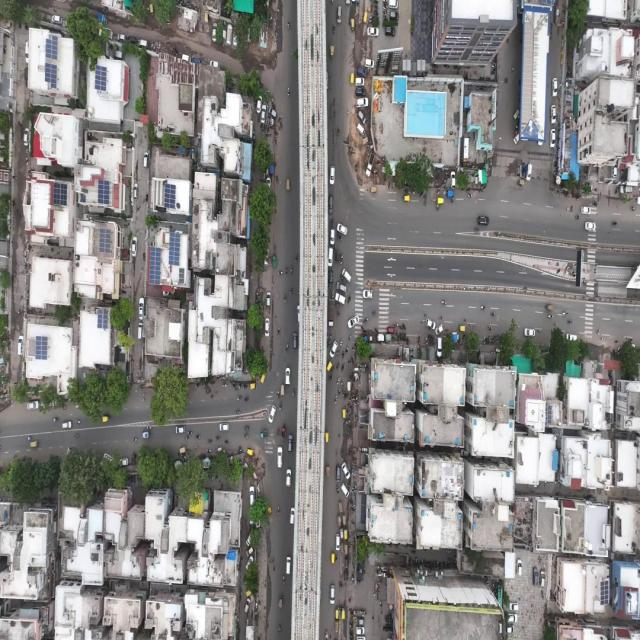3W: (322, 426, 332, 449), (323, 460, 332, 482), (435, 195, 446, 209), (400, 193, 412, 205), (29, 436, 40, 449), (246, 444, 257, 457), (344, 565, 351, 585), (285, 177, 292, 196), (329, 42, 335, 64), (368, 183, 378, 196), (342, 402, 348, 423), (349, 15, 356, 32), (178, 442, 187, 455), (334, 619, 340, 638), (329, 550, 336, 566), (335, 604, 341, 622), (362, 8, 368, 25), (341, 604, 346, 624), (338, 498, 344, 514), (343, 554, 349, 570), (457, 321, 465, 333), (250, 380, 257, 393), (100, 413, 110, 422), (342, 509, 347, 526), (344, 542, 349, 558), (260, 374, 266, 387), (327, 361, 333, 374), (350, 70, 355, 85), (344, 527, 348, 545)
Cars: (334, 219, 350, 239), (344, 311, 360, 331), (265, 402, 278, 424), (530, 563, 540, 591), (476, 209, 490, 229), (548, 102, 558, 129), (362, 282, 375, 302), (538, 562, 546, 594), (354, 93, 370, 109), (434, 334, 445, 357), (547, 127, 558, 150), (263, 315, 272, 343), (334, 287, 346, 308), (432, 322, 446, 340), (136, 293, 144, 324), (338, 481, 351, 500), (284, 459, 291, 494), (218, 419, 234, 434), (275, 444, 283, 474), (245, 534, 257, 554), (522, 322, 537, 338), (523, 156, 532, 182), (514, 551, 522, 580), (131, 232, 139, 260), (284, 548, 291, 580), (564, 328, 578, 344), (582, 217, 595, 234), (618, 183, 635, 196), (550, 78, 560, 100), (16, 326, 23, 357), (22, 125, 31, 149), (504, 612, 518, 627), (22, 64, 30, 90), (23, 399, 40, 411), (340, 266, 352, 283), (329, 577, 336, 606), (286, 502, 294, 527), (449, 168, 459, 188), (342, 460, 351, 482), (226, 24, 233, 52), (172, 420, 185, 435), (286, 432, 294, 456), (284, 360, 291, 387), (337, 278, 350, 292), (422, 317, 436, 330), (506, 600, 519, 614), (355, 85, 369, 98), (357, 107, 367, 125), (353, 120, 365, 135), (365, 26, 380, 38), (336, 5, 345, 25), (329, 226, 338, 245), (329, 339, 338, 358), (243, 598, 252, 617), (354, 612, 364, 629), (52, 13, 65, 26), (335, 462, 342, 486), (504, 622, 516, 636), (353, 72, 365, 86), (336, 530, 342, 557), (247, 484, 255, 504), (385, 322, 395, 338), (292, 328, 298, 354), (272, 251, 278, 277), (362, 56, 374, 69), (212, 20, 218, 46), (133, 179, 140, 201), (356, 626, 367, 640), (329, 192, 335, 217), (329, 242, 334, 272), (357, 63, 367, 78), (331, 162, 337, 186), (512, 104, 521, 120), (384, 25, 396, 37), (388, 9, 400, 21), (208, 57, 221, 68), (255, 95, 262, 115), (142, 147, 148, 169), (62, 419, 73, 431), (579, 203, 591, 214), (267, 106, 278, 118), (385, 0, 401, 8), (179, 53, 193, 62), (25, 39, 30, 64), (260, 103, 266, 123), (265, 290, 272, 306), (512, 131, 519, 147), (265, 172, 272, 188), (138, 38, 148, 49), (127, 33, 138, 43), (138, 319, 142, 345), (113, 49, 123, 58), (115, 31, 126, 39), (191, 54, 201, 62), (246, 545, 253, 555)
LCV: (365, 152, 377, 180), (447, 189, 458, 202), (141, 427, 151, 440)
M2W: (439, 296, 451, 314), (488, 309, 500, 324), (195, 428, 209, 440), (338, 360, 347, 378), (274, 615, 282, 635), (611, 217, 619, 236), (561, 306, 571, 321), (280, 570, 287, 590), (274, 422, 282, 439), (51, 410, 60, 425), (287, 281, 294, 300), (129, 431, 139, 444), (369, 305, 379, 318), (591, 197, 602, 208), (336, 356, 342, 376), (286, 339, 292, 358), (288, 261, 294, 280), (332, 391, 339, 407), (567, 313, 575, 327), (275, 385, 281, 403), (275, 324, 283, 337), (487, 319, 495, 332), (336, 372, 342, 389), (26, 432, 34, 444), (339, 349, 346, 362), (363, 313, 370, 326), (294, 252, 300, 267), (277, 397, 283, 412), (286, 84, 292, 99), (284, 17, 290, 32), (188, 426, 195, 438), (282, 292, 288, 306), (630, 203, 637, 215), (479, 299, 486, 311), (242, 395, 251, 404), (72, 431, 81, 440), (74, 416, 83, 425), (285, 266, 290, 282), (347, 329, 353, 342), (277, 269, 283, 282), (335, 125, 341, 138), (596, 326, 602, 338), (548, 310, 554, 322), (347, 292, 353, 304), (331, 22, 337, 34), (222, 380, 229, 390), (292, 387, 296, 404), (206, 438, 214, 446), (574, 215, 582, 223), (339, 336, 345, 346), (236, 408, 243, 416), (276, 504, 280, 518), (223, 437, 230, 444), (216, 432, 220, 444), (236, 395, 243, 401), (245, 424, 249, 433), (243, 432, 249, 438), (346, 346, 350, 353), (200, 444, 208, 446)
